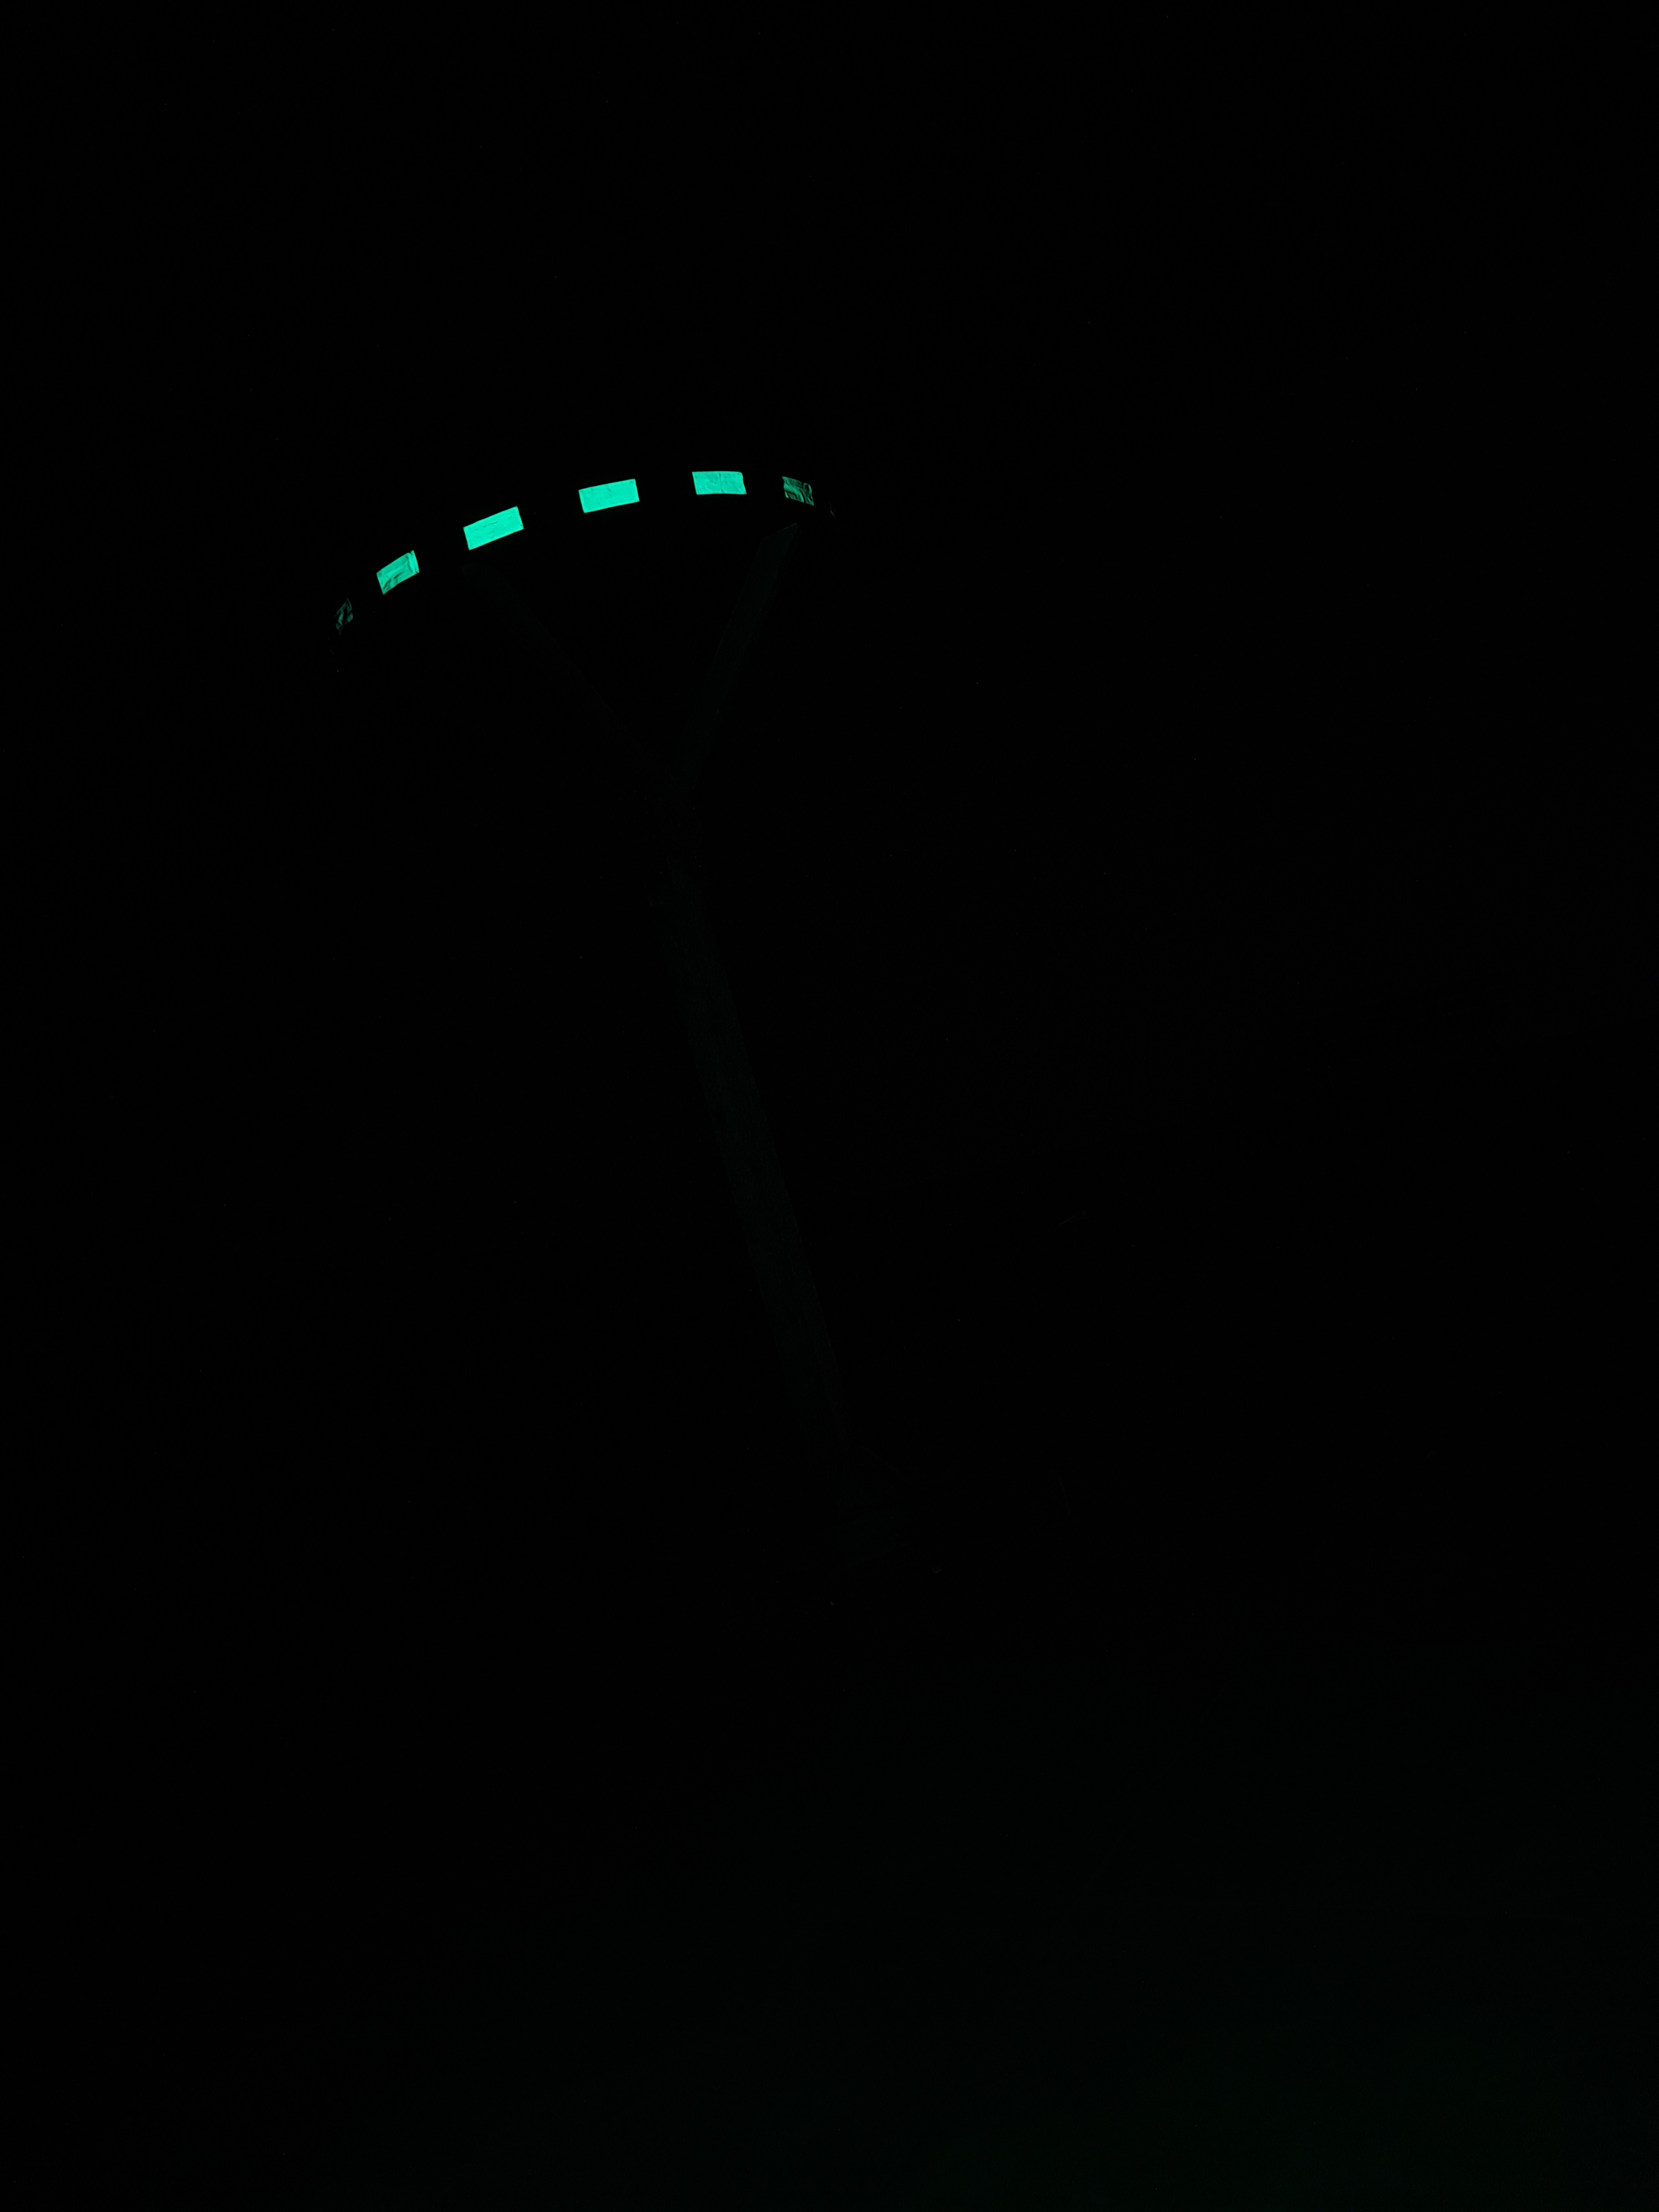hoop: (310, 460, 823, 639)
